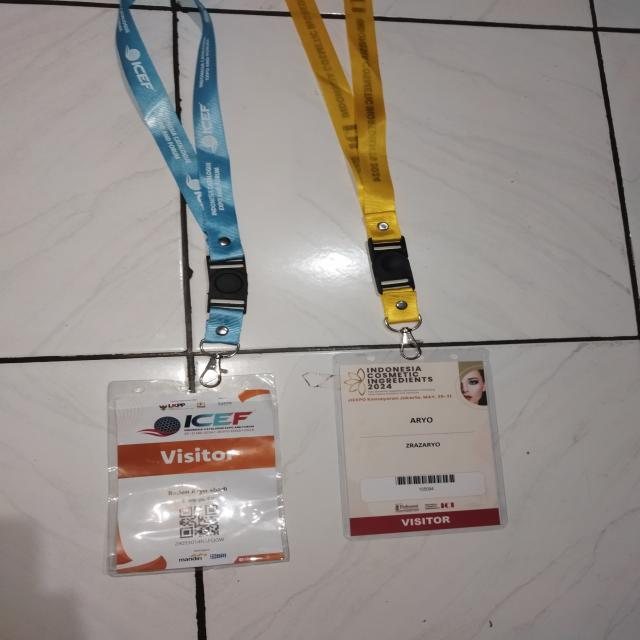ID_card: (104, 373, 289, 577), (332, 348, 508, 540)
